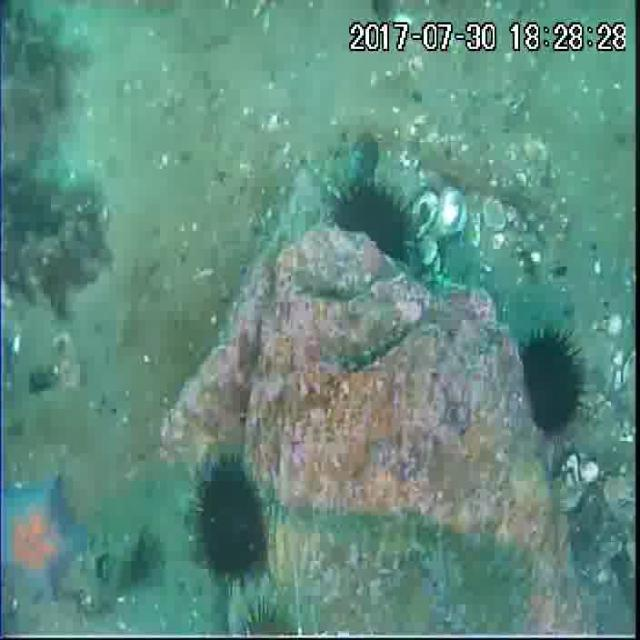echinus: (195, 453, 268, 582), (332, 179, 414, 267), (522, 329, 584, 435)
starfish: (0, 469, 90, 612)
